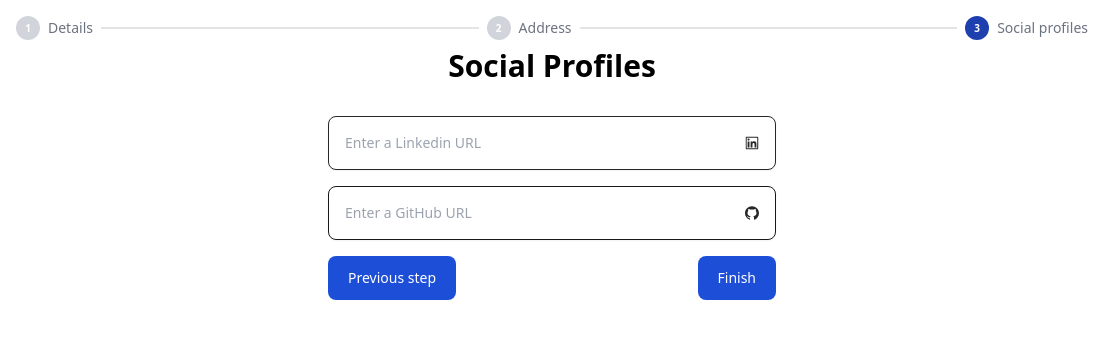
Test case: Step3 › should show error message when fields was empty
Click the button "Finish": [737, 278] box [698,256,776,300]
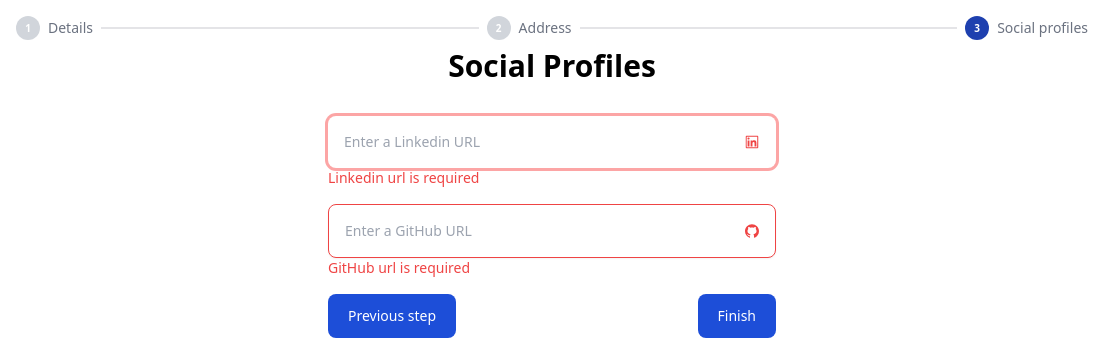
Now the text "Linkedin url is required" is shown, box [328,168,479,187]
Now the text "GitHub url is required" is shown, box [328,258,470,277]
